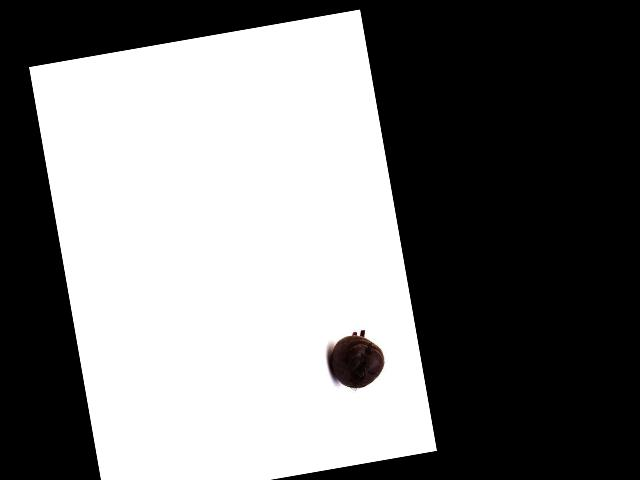beet: (325, 328, 388, 392)
